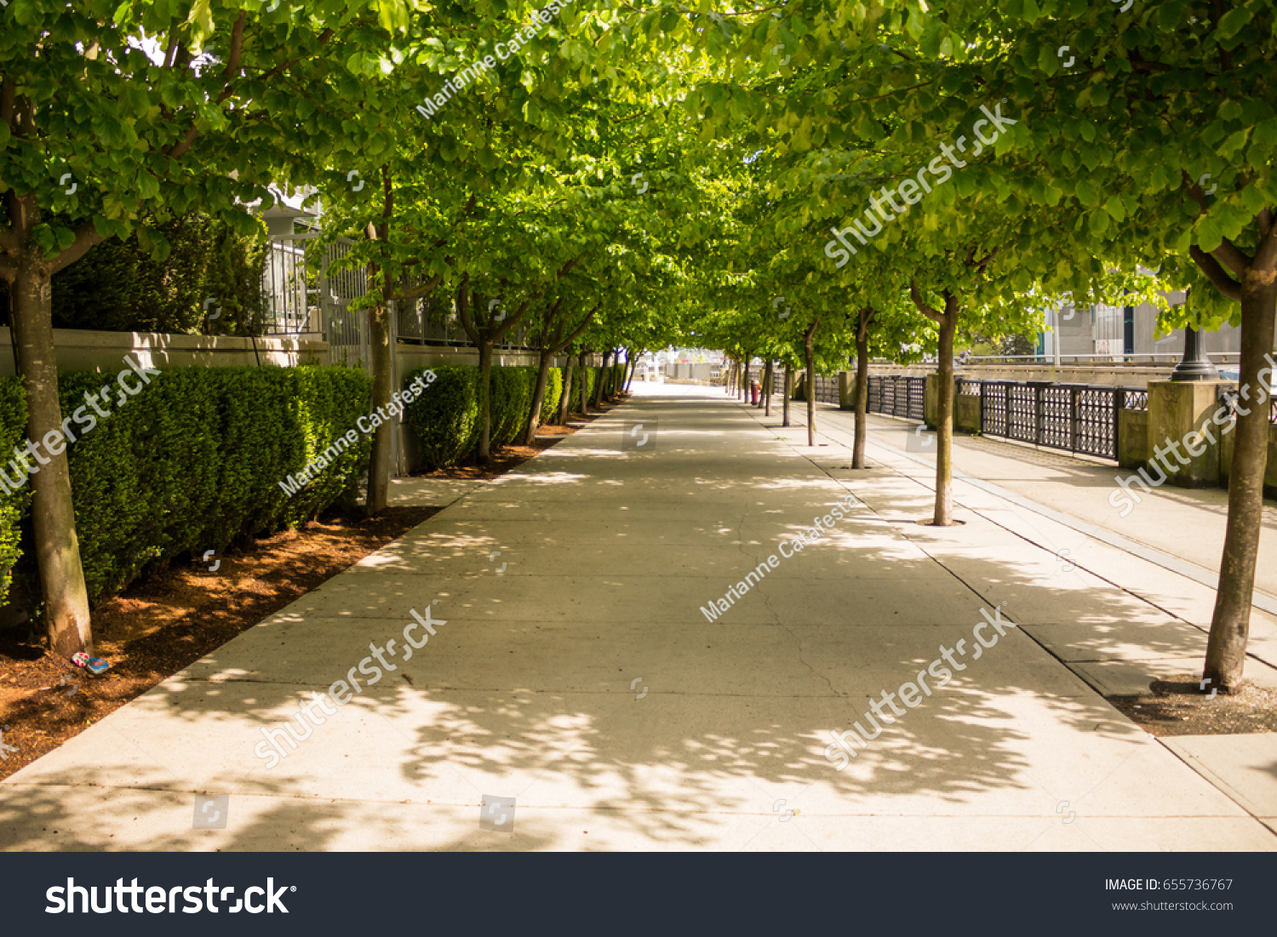Tree: (1, 14, 295, 648), (1023, 20, 1277, 705), (845, 1, 1085, 575), (255, 1, 501, 538), (387, 55, 592, 453), (700, 1, 844, 461), (777, 1, 906, 481)
